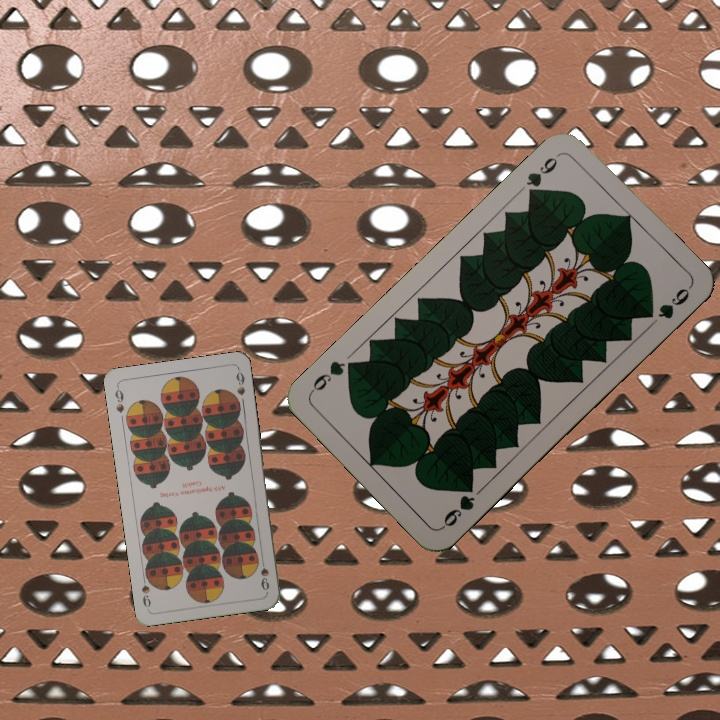G9: (515, 149, 563, 201), (438, 479, 478, 531)
S9: (257, 553, 272, 593), (111, 383, 127, 415)
